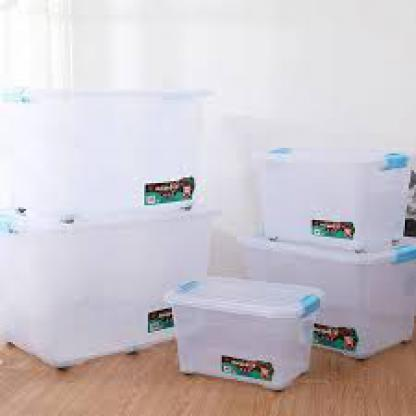plastic_box: (163, 262, 327, 395), (253, 126, 407, 250)
